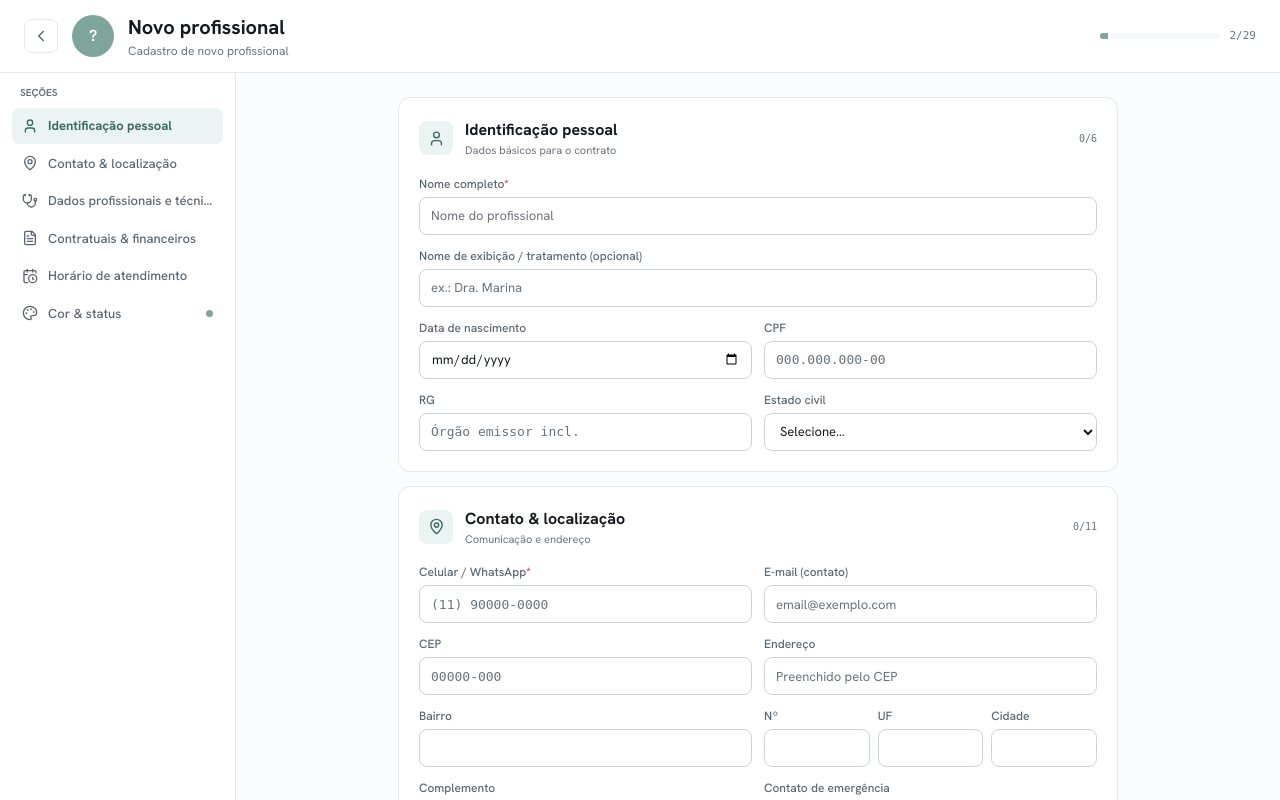
Test: ProfessionalForm — novo › mascara o CPF ao digitar
Type "12345678901" into the field with placeholder "000.000.000-00" at (930,360), box [764,340,1097,378]
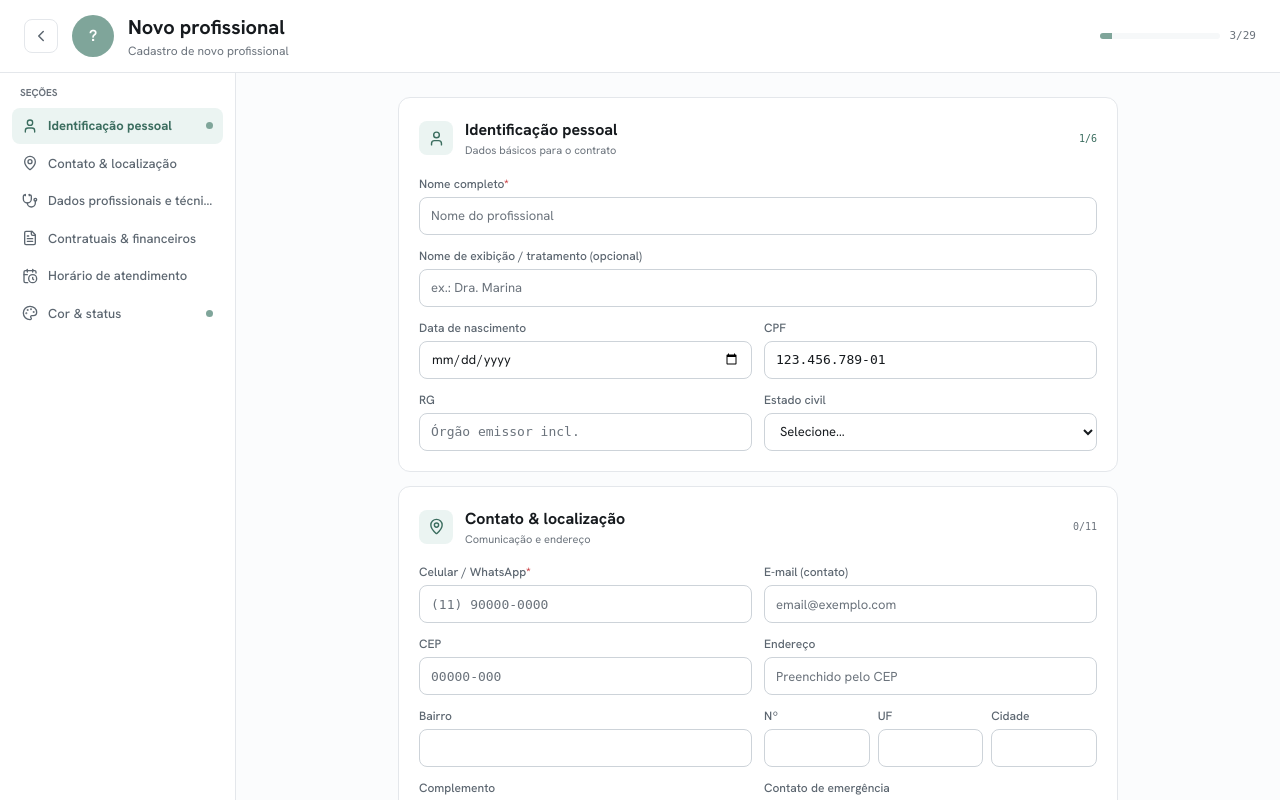
Expected: the field with placeholder "000.000.000-00" holds "123.456.789-01", [764,340,1097,378]
